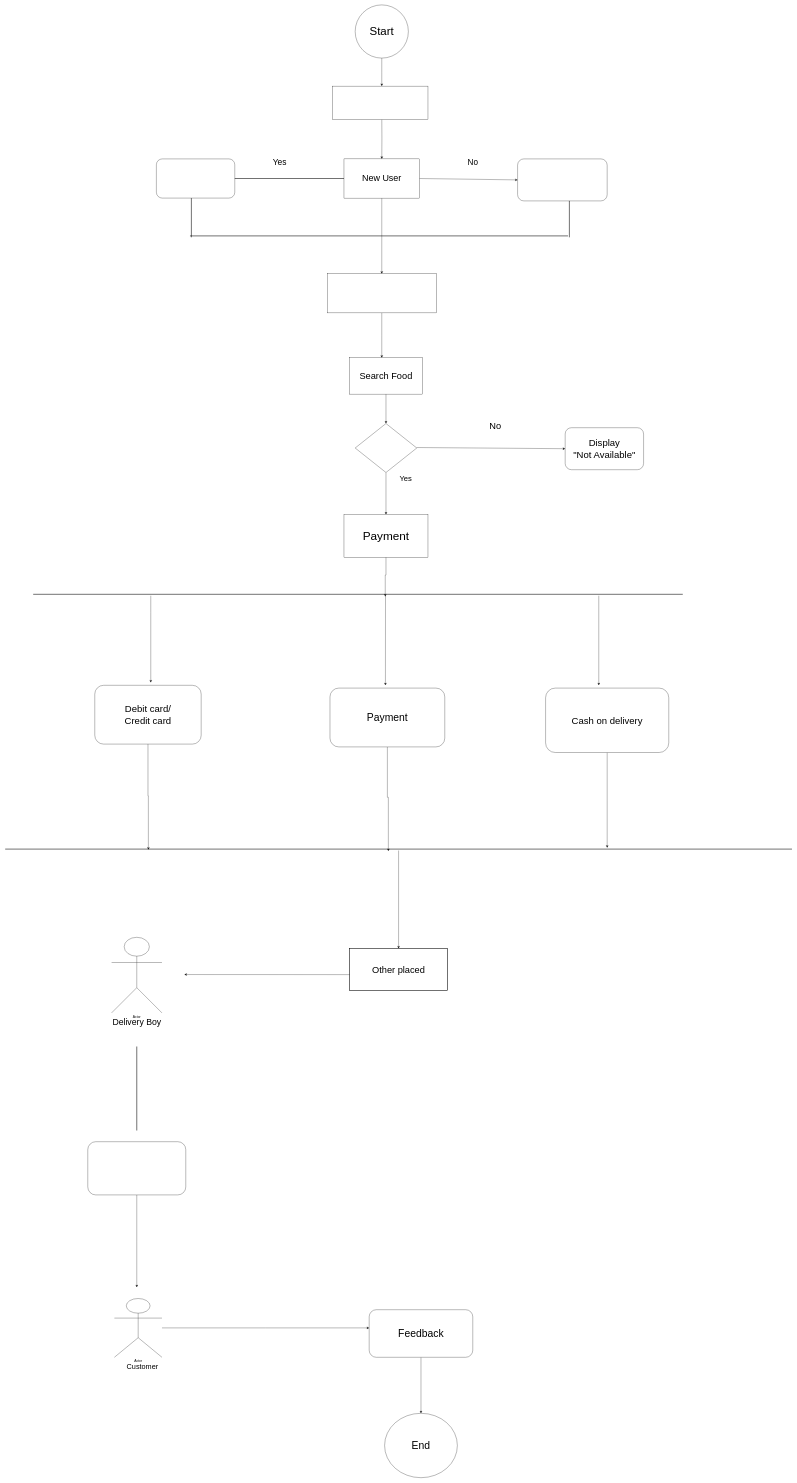
The diagram is 797 pixels wide and 1483 high, and some of its shapes have lost their labels. The shapes that lost their labels are listed below. From the top down, each one's box as (x1, y1, x2, y2) in pixels, then its label:
(333, 86, 428, 120): open App/website
(156, 159, 235, 198): Register
(517, 159, 607, 201): Login
(327, 273, 436, 313): Search Restaurant
(355, 423, 417, 473): Place order
(88, 1141, 186, 1195): Received order
